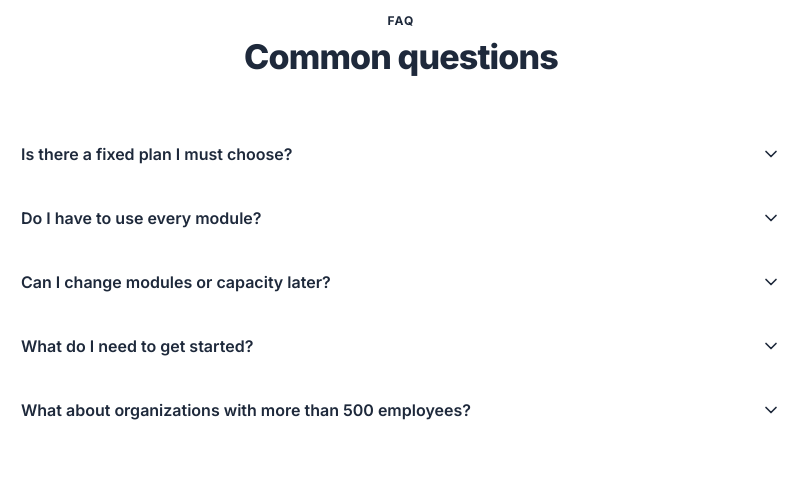
Scenario: FaqSection › opens one answer at a time and closes it on a second click
Step 1. Click the button "Is there a fixed plan I must choose?" → click(157, 154), box [21,122,781,186]
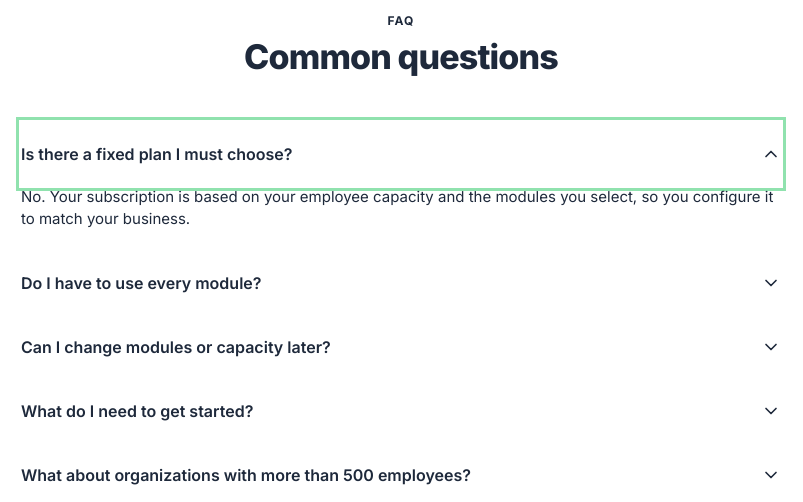
Result: the text "No. Your subscription is based on your employee capacity and the modules you select, so you configure it to match your b" is shown at [21,187,773,228]
Step 2. Click the button "Do I have to use every module?" → click(141, 283), box [21,251,781,315]
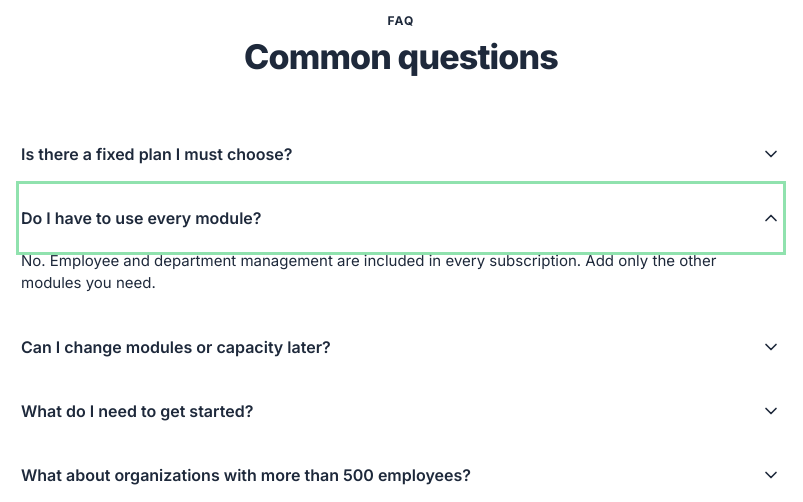
Result: the text "No. Your subscription is based on your employee capacity and the modules you select, so you configure it to match your b" is gone
Result: the text "No. Employee and department management are included in every subscription. Add only the other modules you need." is shown at [21,251,716,292]
Step 3. Click the button "Do I have to use every module?" → click(141, 218), box [21,186,781,250]
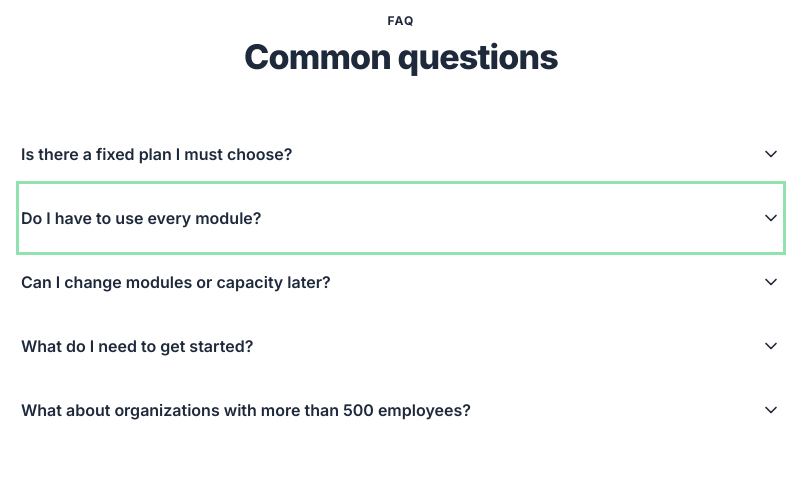
Result: the text "No. Employee and department management are included in every subscription. Add only the other modules you need." is gone
